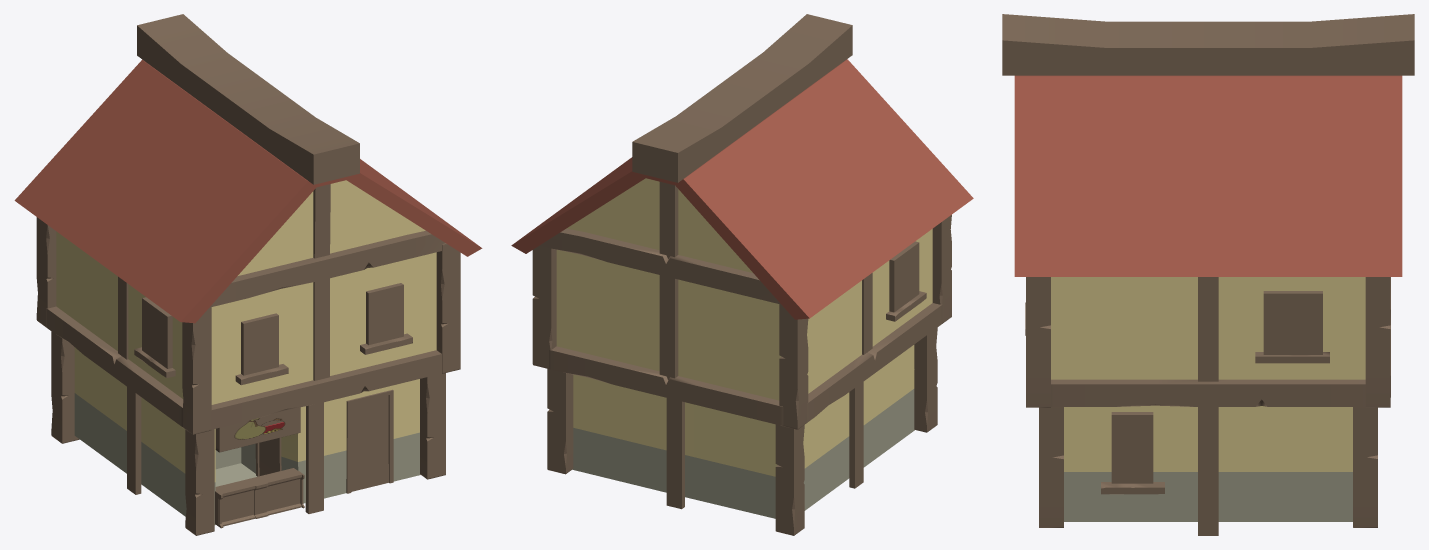
File: merchant's shop.fbx
The picture shows the model from 3 angles, left to right: view 1: azimuth 30°, elevation 25°; view 2: azimuth 150°, elevation 25°; view 3: azimuth 270°, elevation 25°; orthographic projection. The views are drawn at different scales.
Parts seen in each view (by area): view 1: Cube.014, Plane.001, Plane, Plane.003, Plane.002, Cube.030, Cube; view 2: Cube.014, Plane, Plane.001, Plane.002, Plane.003; view 3: Plane.001, Cube.014, Plane, Plane.002, Plane.003.
Part boxes in pixels (box(x1,y1,x2,y2)): Cube.014: box(36, 14, 460, 535); Plane.001: box(14, 59, 482, 323); Plane: box(56, 180, 436, 482); Plane.003: box(142, 283, 403, 493); Plane.002: box(74, 393, 420, 524); Cube.030: box(215, 468, 304, 528); Cube: box(215, 407, 300, 452); Cube.014: box(532, 14, 951, 535); Plane: box(556, 178, 932, 476); Plane.001: box(511, 59, 973, 319); Plane.002: box(572, 389, 914, 518); Plane.003: box(889, 241, 919, 312); Plane.001: box(1014, 75, 1402, 276); Cube.014: box(1002, 14, 1414, 535); Plane: box(1051, 277, 1365, 471); Plane.002: box(1064, 472, 1352, 521); Plane.003: box(1111, 291, 1322, 483).
Bounding box in the file's own units: 678 × 811 × 687.
